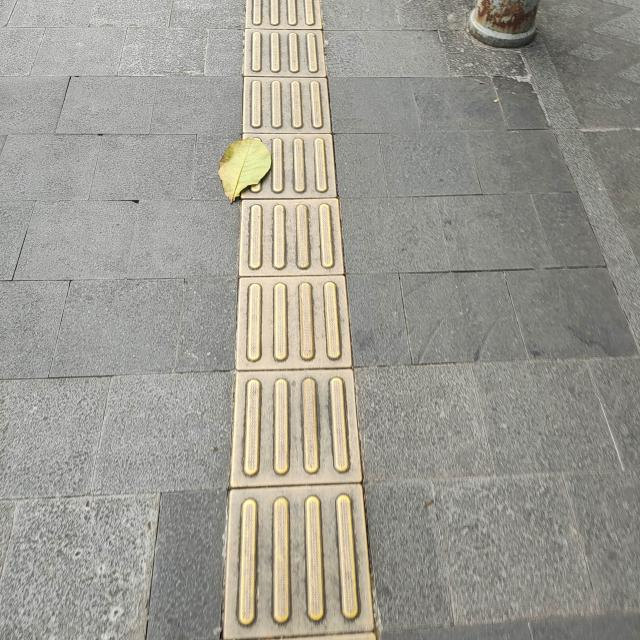lurus: (203, 9, 384, 640)
